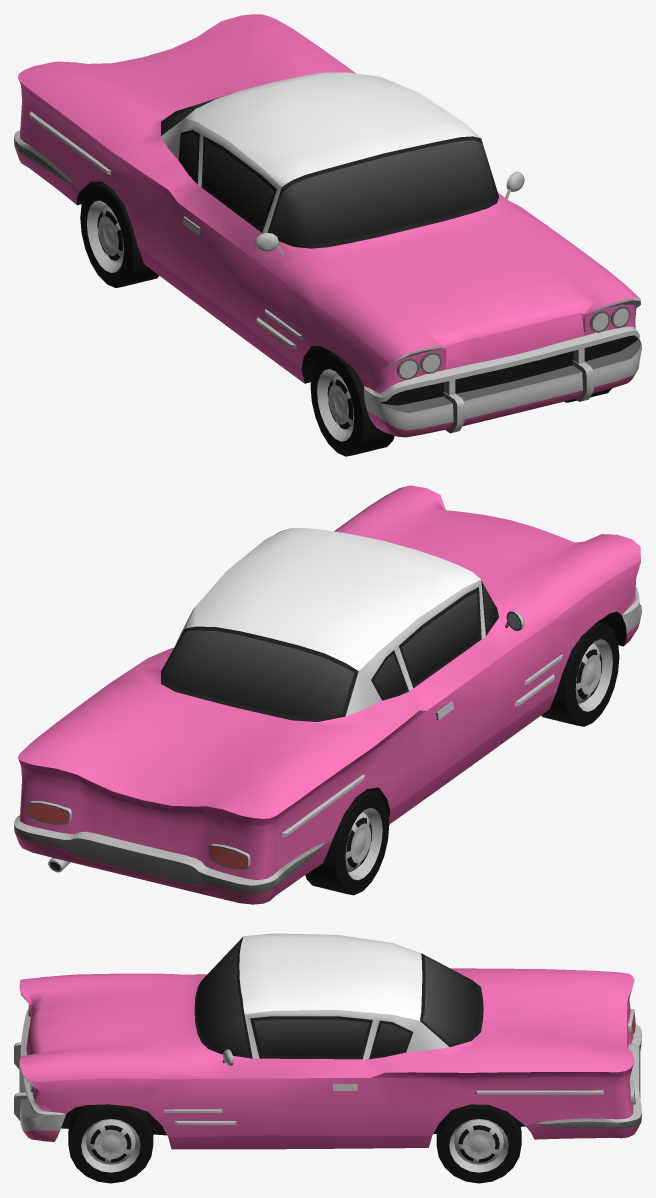
File: PaoChe00_3.fbx
3 renders of one model, top to bottom at view 1: azimuth 30°, elevation 25°; view 2: azimuth 150°, elevation 25°; view 3: azimuth 270°, elevation 25°, orthographic. The views are drawn at different scales.
Visible parts, largest first — view 1: PaoChe00_3; view 2: PaoChe00_3; view 3: PaoChe00_3.
Boxes of the visible parts, x1,y1,x2,y2 form: PaoChe00_3: [14, 14, 641, 456]; PaoChe00_3: [14, 485, 641, 904]; PaoChe00_3: [14, 933, 641, 1183].
Size of the model in its own units: 291 by 222 by 736.
